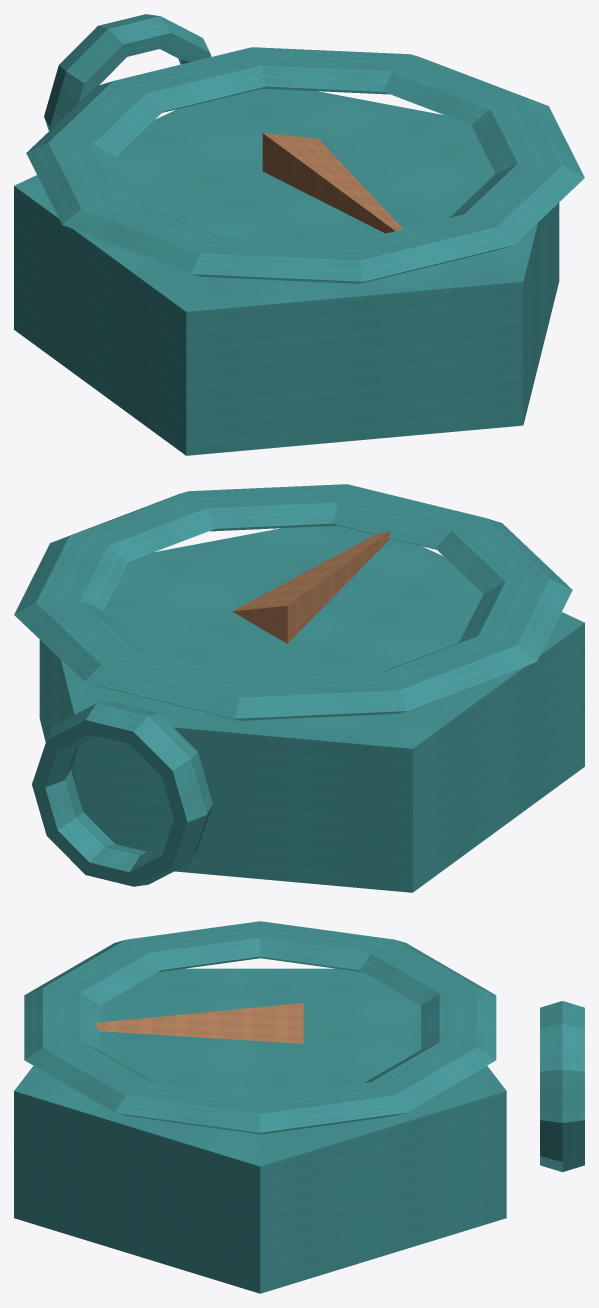
Rendered from atlas100-s099-a05.lod1.glb.
3 views of the same model, one above another, from view 1: azimuth 30°, elevation 25°; view 2: azimuth 150°, elevation 25°; view 3: azimuth 270°, elevation 25° (orthographic). The views are drawn at different scales.
Parts seen in each view (by area): view 1: atlas100-s099-a05:part-000, atlas100-s099-a05:part-003, atlas100-s099-a05:part-004, atlas100-s099-a05:part-002; view 2: atlas100-s099-a05:part-000, atlas100-s099-a05:part-003, atlas100-s099-a05:part-004, atlas100-s099-a05:part-002; view 3: atlas100-s099-a05:part-000, atlas100-s099-a05:part-003, atlas100-s099-a05:part-004, atlas100-s099-a05:part-002.
Boxes of the visible parts, box(x1,y1,x2,y2) form: atlas100-s099-a05:part-000: box(14, 88, 559, 455); atlas100-s099-a05:part-003: box(26, 47, 584, 283); atlas100-s099-a05:part-004: box(44, 14, 211, 130); atlas100-s099-a05:part-002: box(262, 133, 402, 233); atlas100-s099-a05:part-000: box(39, 525, 584, 892); atlas100-s099-a05:part-003: box(14, 484, 572, 720); atlas100-s099-a05:part-004: box(32, 701, 212, 886); atlas100-s099-a05:part-002: box(232, 531, 390, 643); atlas100-s099-a05:part-000: box(14, 968, 506, 1293); atlas100-s099-a05:part-003: box(24, 921, 496, 1134); atlas100-s099-a05:part-004: box(540, 1001, 584, 1171); atlas100-s099-a05:part-002: box(94, 1003, 303, 1043).
Bounding box in the file's own units: 0.5132 × 0.1936 × 0.5777.
2 materials, 2 textured.
